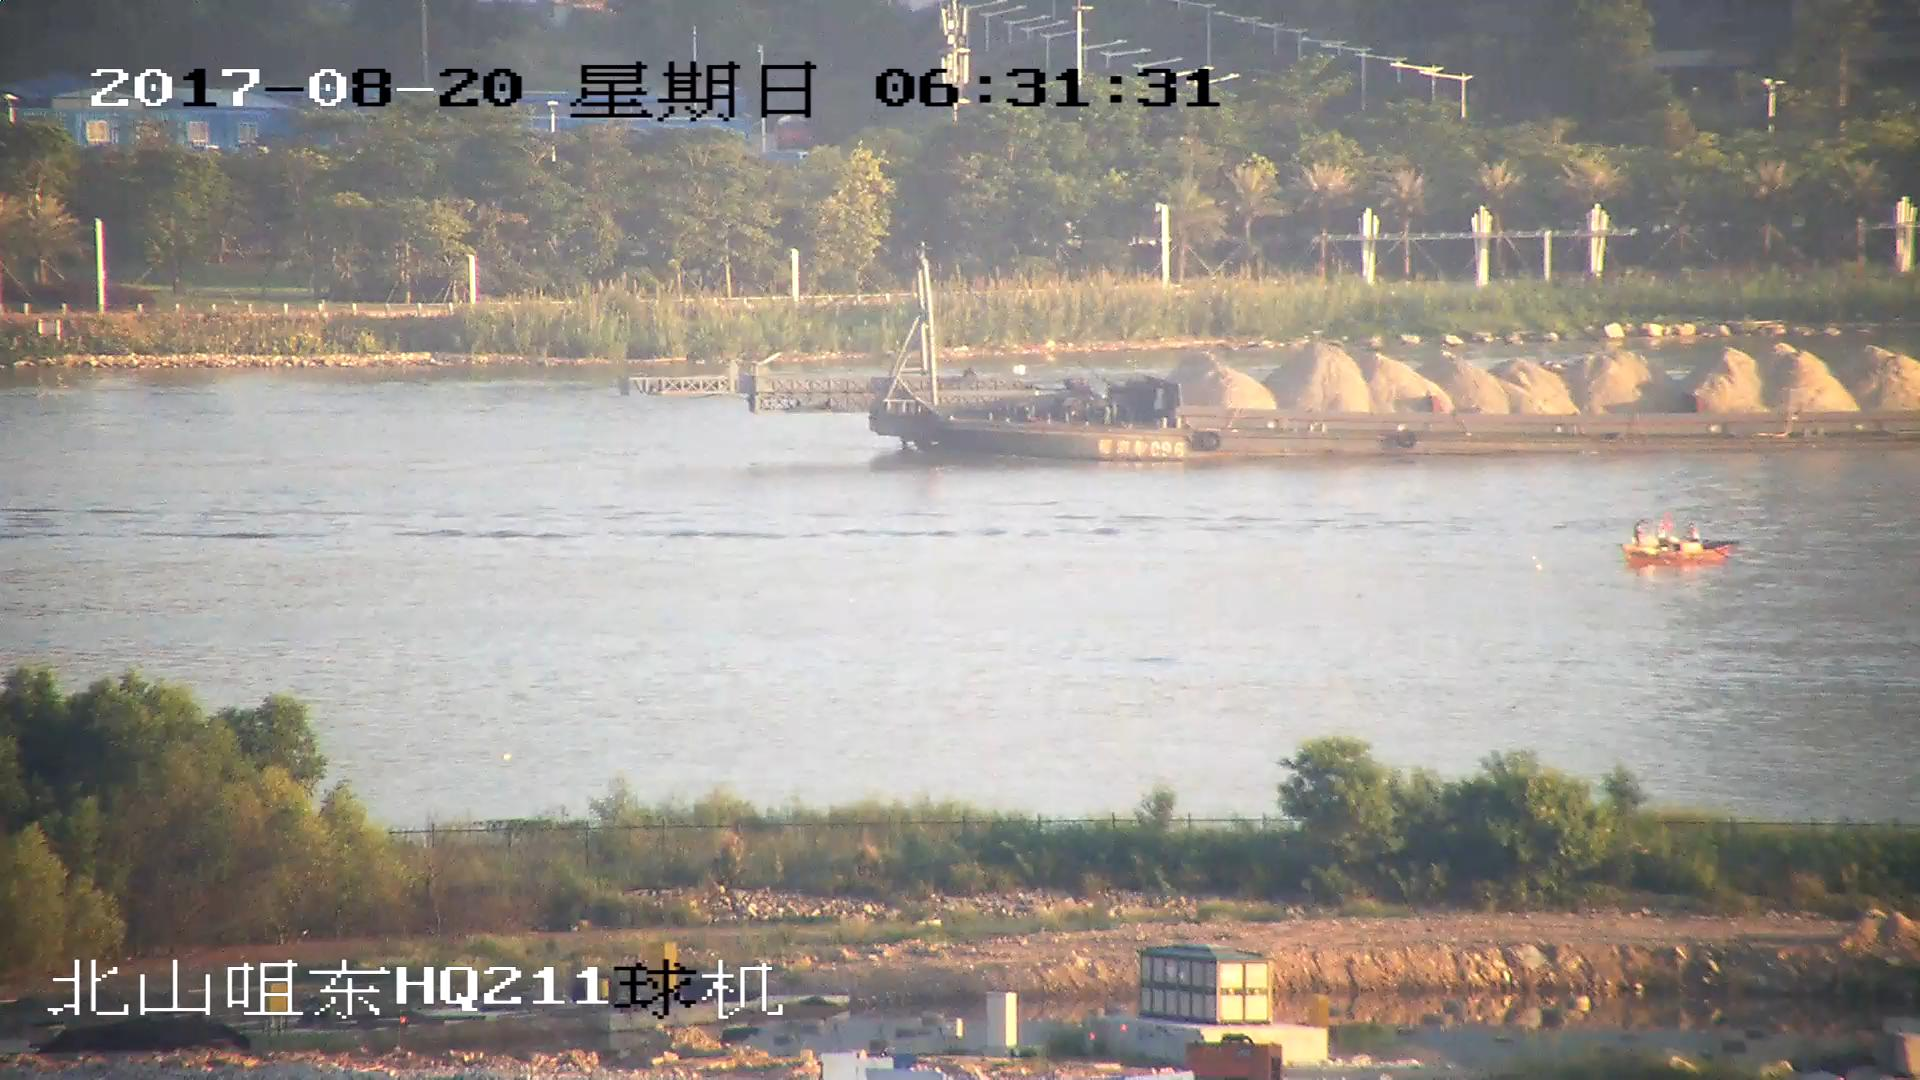fishing boat: (1624, 515, 1744, 570)
ore carrier: (617, 245, 1920, 466)
